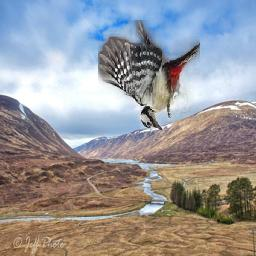Woodpecker: (98, 20, 200, 130)
